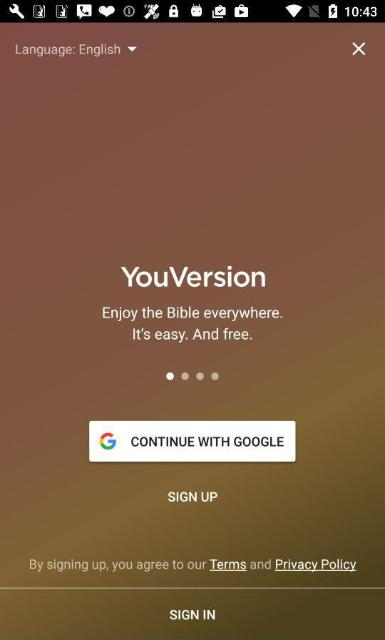Icon: (351, 42, 365, 56)
Image: (99, 432, 116, 450)
PageIndicator: (165, 372, 219, 381)
Text: (102, 306, 282, 342), (29, 558, 356, 572), (120, 264, 266, 288), (131, 436, 283, 446), (15, 44, 75, 56), (168, 490, 218, 502), (80, 44, 120, 56), (170, 610, 214, 620)
TextButton: (0, 587, 384, 639)
TextImageButton: (89, 421, 297, 462)
UpperTaskBar: (0, 0, 384, 22)
